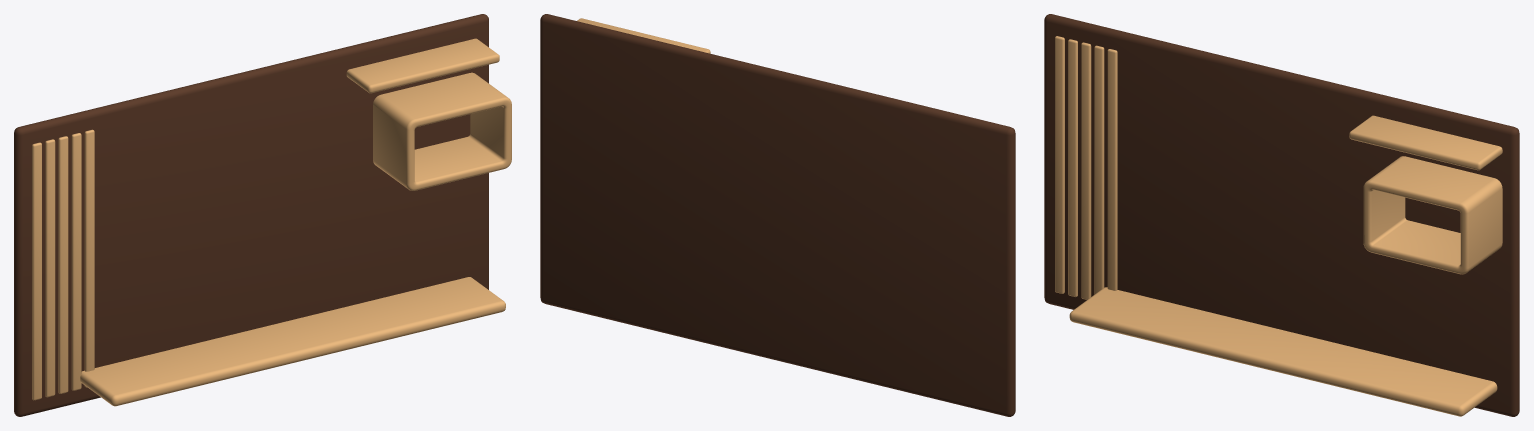
The model's file is painel_tv_parede_nogueira.glb.
3 views of the same model, side by side, from view 1: azimuth 30°, elevation 25°; view 2: azimuth 150°, elevation 25°; view 3: azimuth 330°, elevation 25° (orthographic).
Visible parts, largest first — view 1: painel_tv_parede_nogueira; view 2: painel_tv_parede_nogueira; view 3: painel_tv_parede_nogueira.
Part boxes in pixels (bbox=[...]): painel_tv_parede_nogueira: bbox=[14, 14, 511, 416]; painel_tv_parede_nogueira: bbox=[540, 14, 1015, 416]; painel_tv_parede_nogueira: bbox=[1044, 14, 1519, 416].
Size of the model in its own units: 1.8 by 1.05 by 0.27.
Materials: 2 (1 with a texture image).
